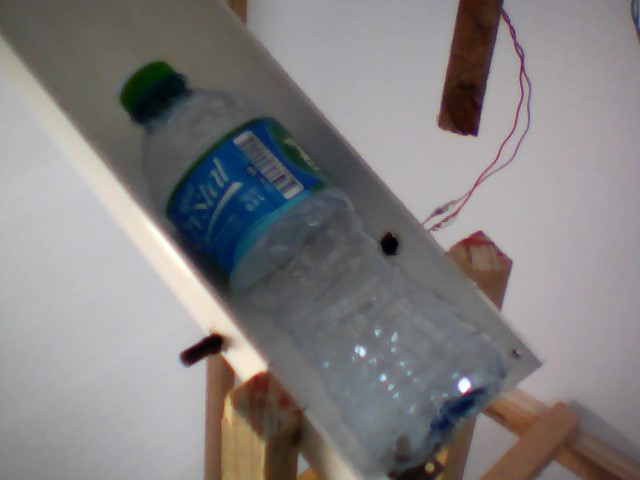plastico: (113, 50, 522, 480)
